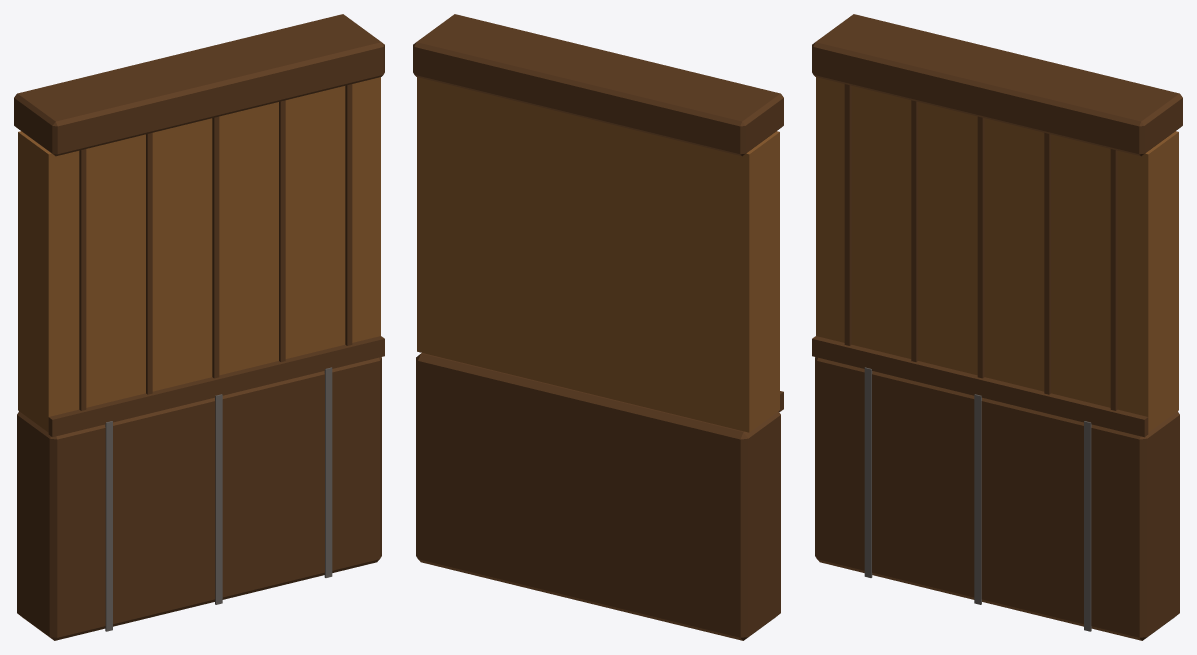
The model's file is PR_Building_Duvar_Lambri.fbx.
3 renders of one model, left to right at view 1: azimuth 30°, elevation 25°; view 2: azimuth 150°, elevation 25°; view 3: azimuth 330°, elevation 25°, orthographic.
Parts seen in each view (by area): view 1: PR_Building_Duvar_Lambri; view 2: PR_Building_Duvar_Lambri; view 3: PR_Building_Duvar_Lambri.
Part boxes in pixels (bbox=[...]): PR_Building_Duvar_Lambri: bbox=[14, 14, 384, 640]; PR_Building_Duvar_Lambri: bbox=[413, 14, 783, 640]; PR_Building_Duvar_Lambri: bbox=[812, 14, 1182, 640].
Size of the model in its own units: 1 by 1.5 by 0.22.
